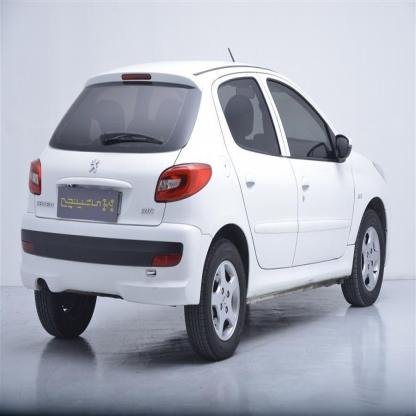Car: (22, 54, 390, 342)
